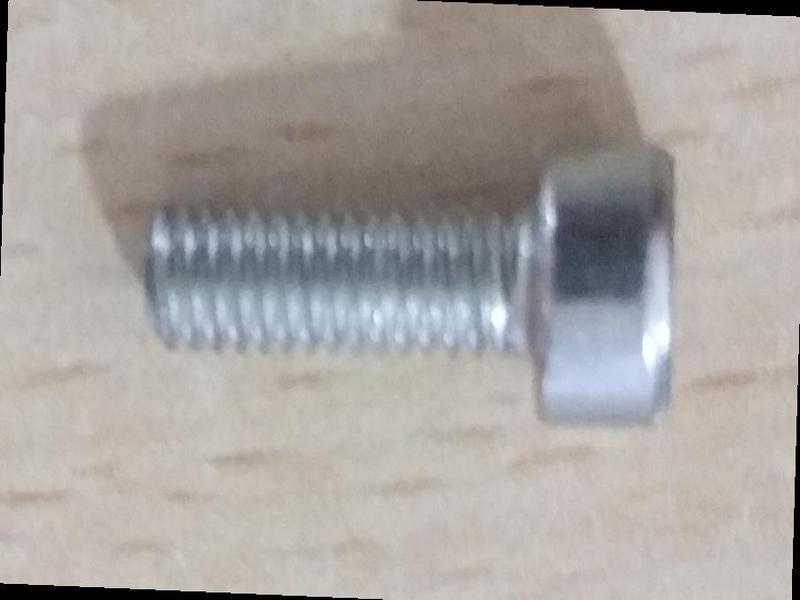smallscrew: (107, 121, 704, 461)
